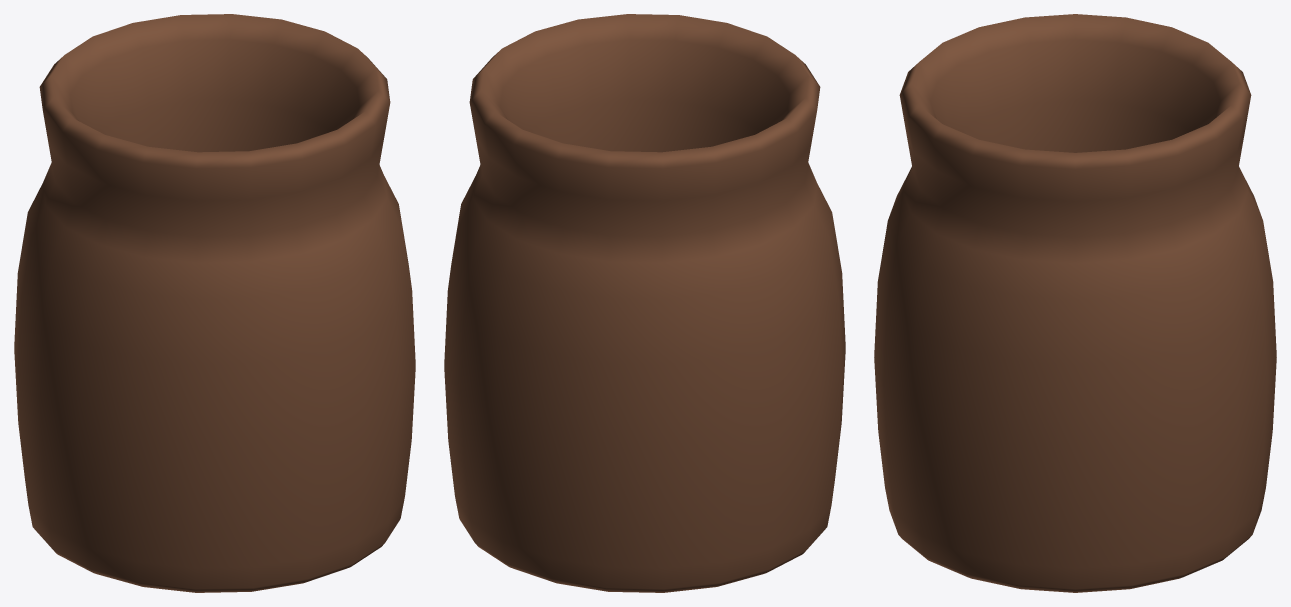
Rendered from Poterie6.fbx.
3 renders of one model, left to right at view 1: azimuth 30°, elevation 25°; view 2: azimuth 150°, elevation 25°; view 3: azimuth 270°, elevation 25°, orthographic.
Visible parts, largest first — view 1: polySurface32; view 2: polySurface32; view 3: polySurface32.
Part boxes in pixels (x1,y1,x2,y2): polySurface32: (14,14,415,592); polySurface32: (444,14,845,592); polySurface32: (874,14,1276,592).
Bounding box in the file's own units: 0.34 × 0.4069 × 0.3396.
